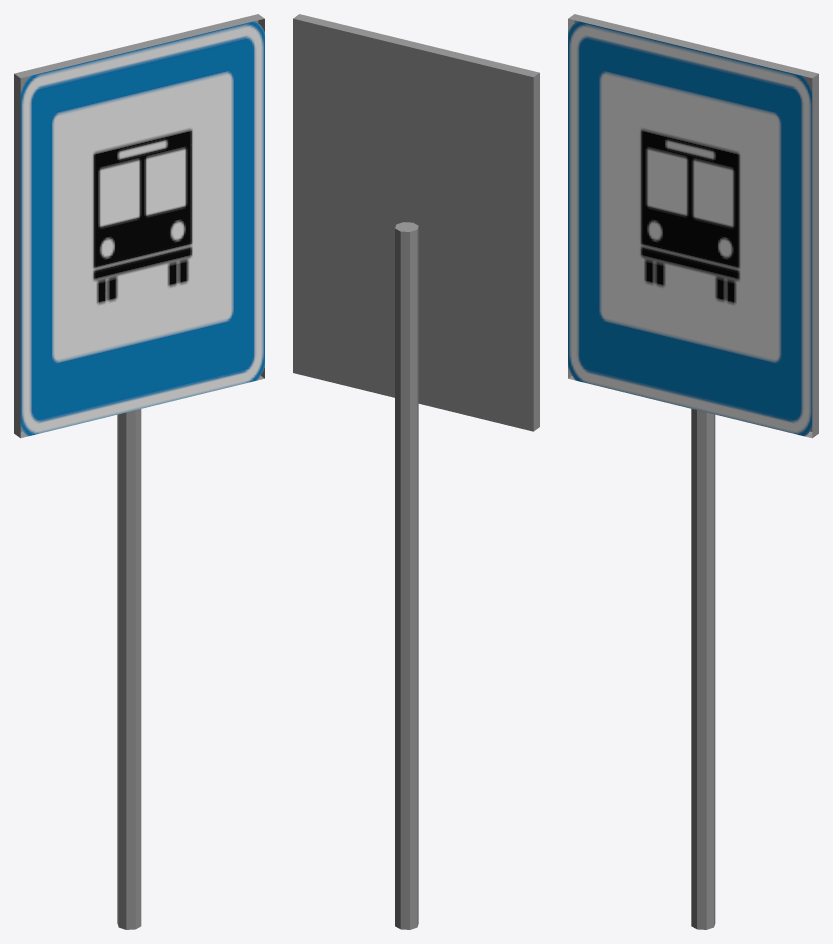
File: PlacaOnibus.fbx
3 views of the same model, side by side, from view 1: azimuth 30°, elevation 25°; view 2: azimuth 150°, elevation 25°; view 3: azimuth 330°, elevation 25° (orthographic).
Visible parts, largest first — view 1: PlacaDeOnibus; view 2: PlacaDeOnibus; view 3: PlacaDeOnibus.
Part boxes in pixels (<box>): PlacaDeOnibus: <box>14,14,264,929</box>; PlacaDeOnibus: <box>293,14,539,929</box>; PlacaDeOnibus: <box>568,14,818,929</box>.
Bounding box in the file's own units: 80.56 × 279 × 11.04.
